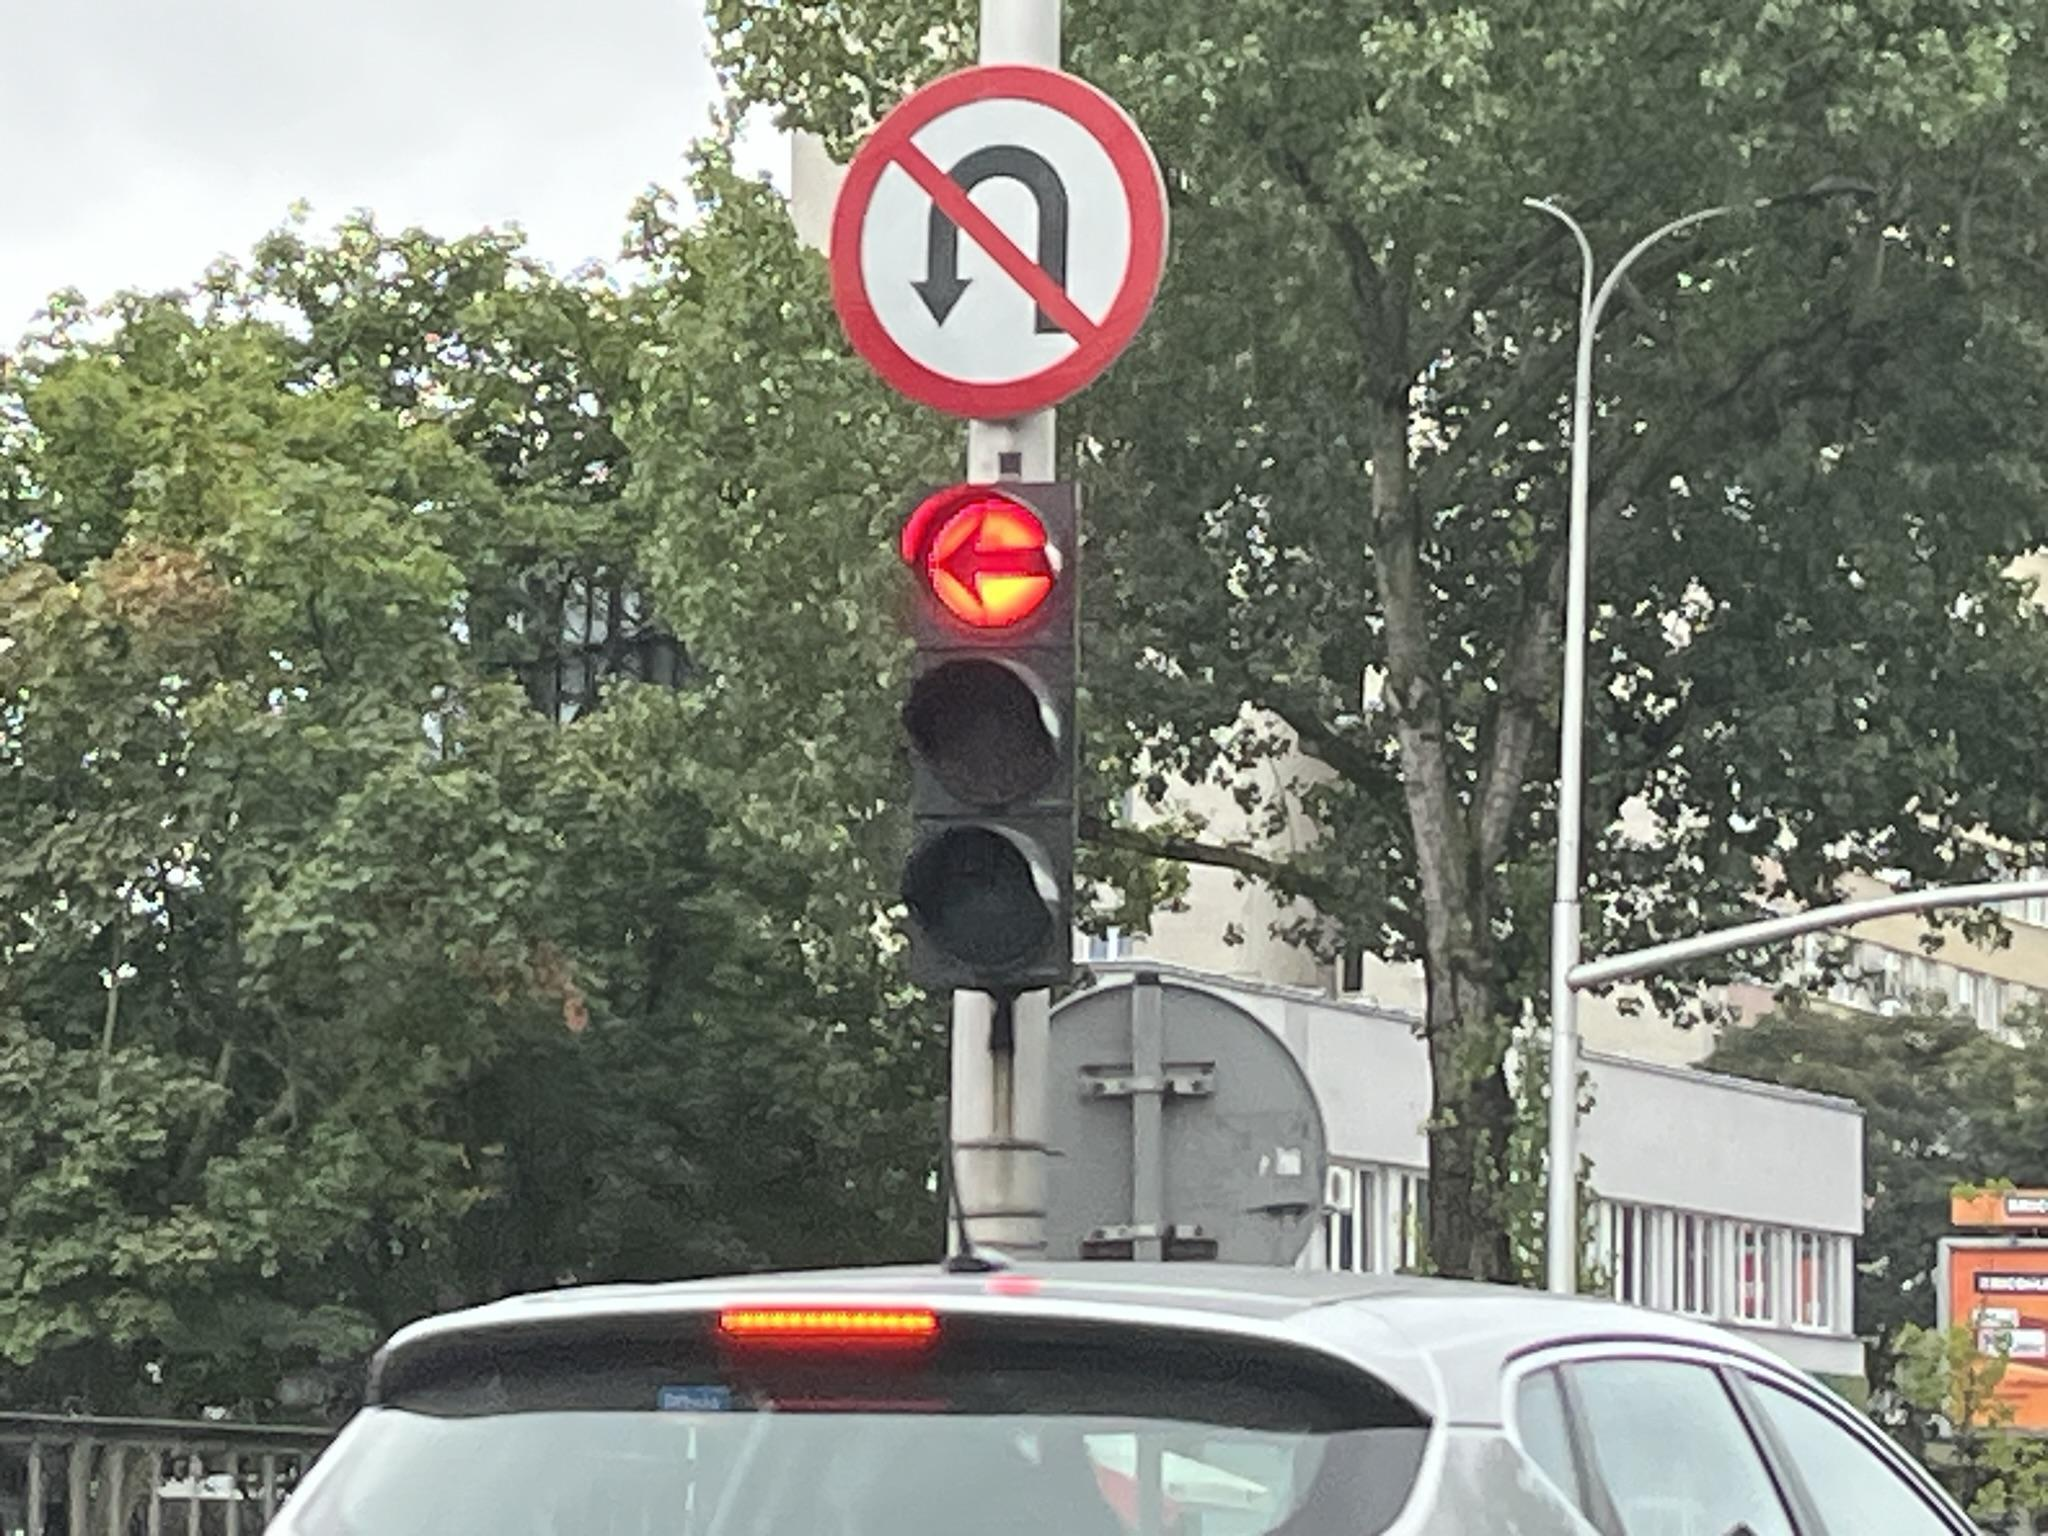prohibitory: (826, 60, 1172, 426)
